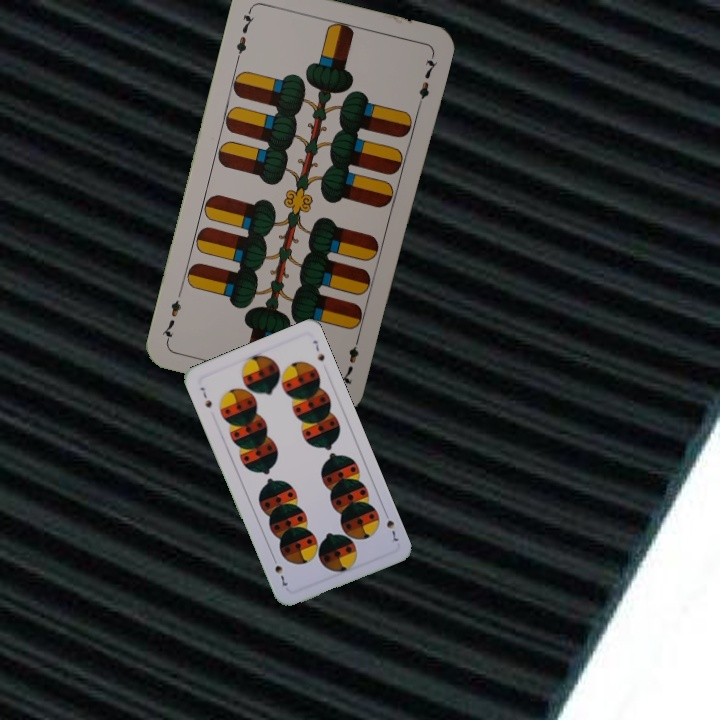E7: (336, 330, 363, 389), (232, 4, 257, 63)
S7: (380, 507, 401, 544), (196, 383, 215, 411)
